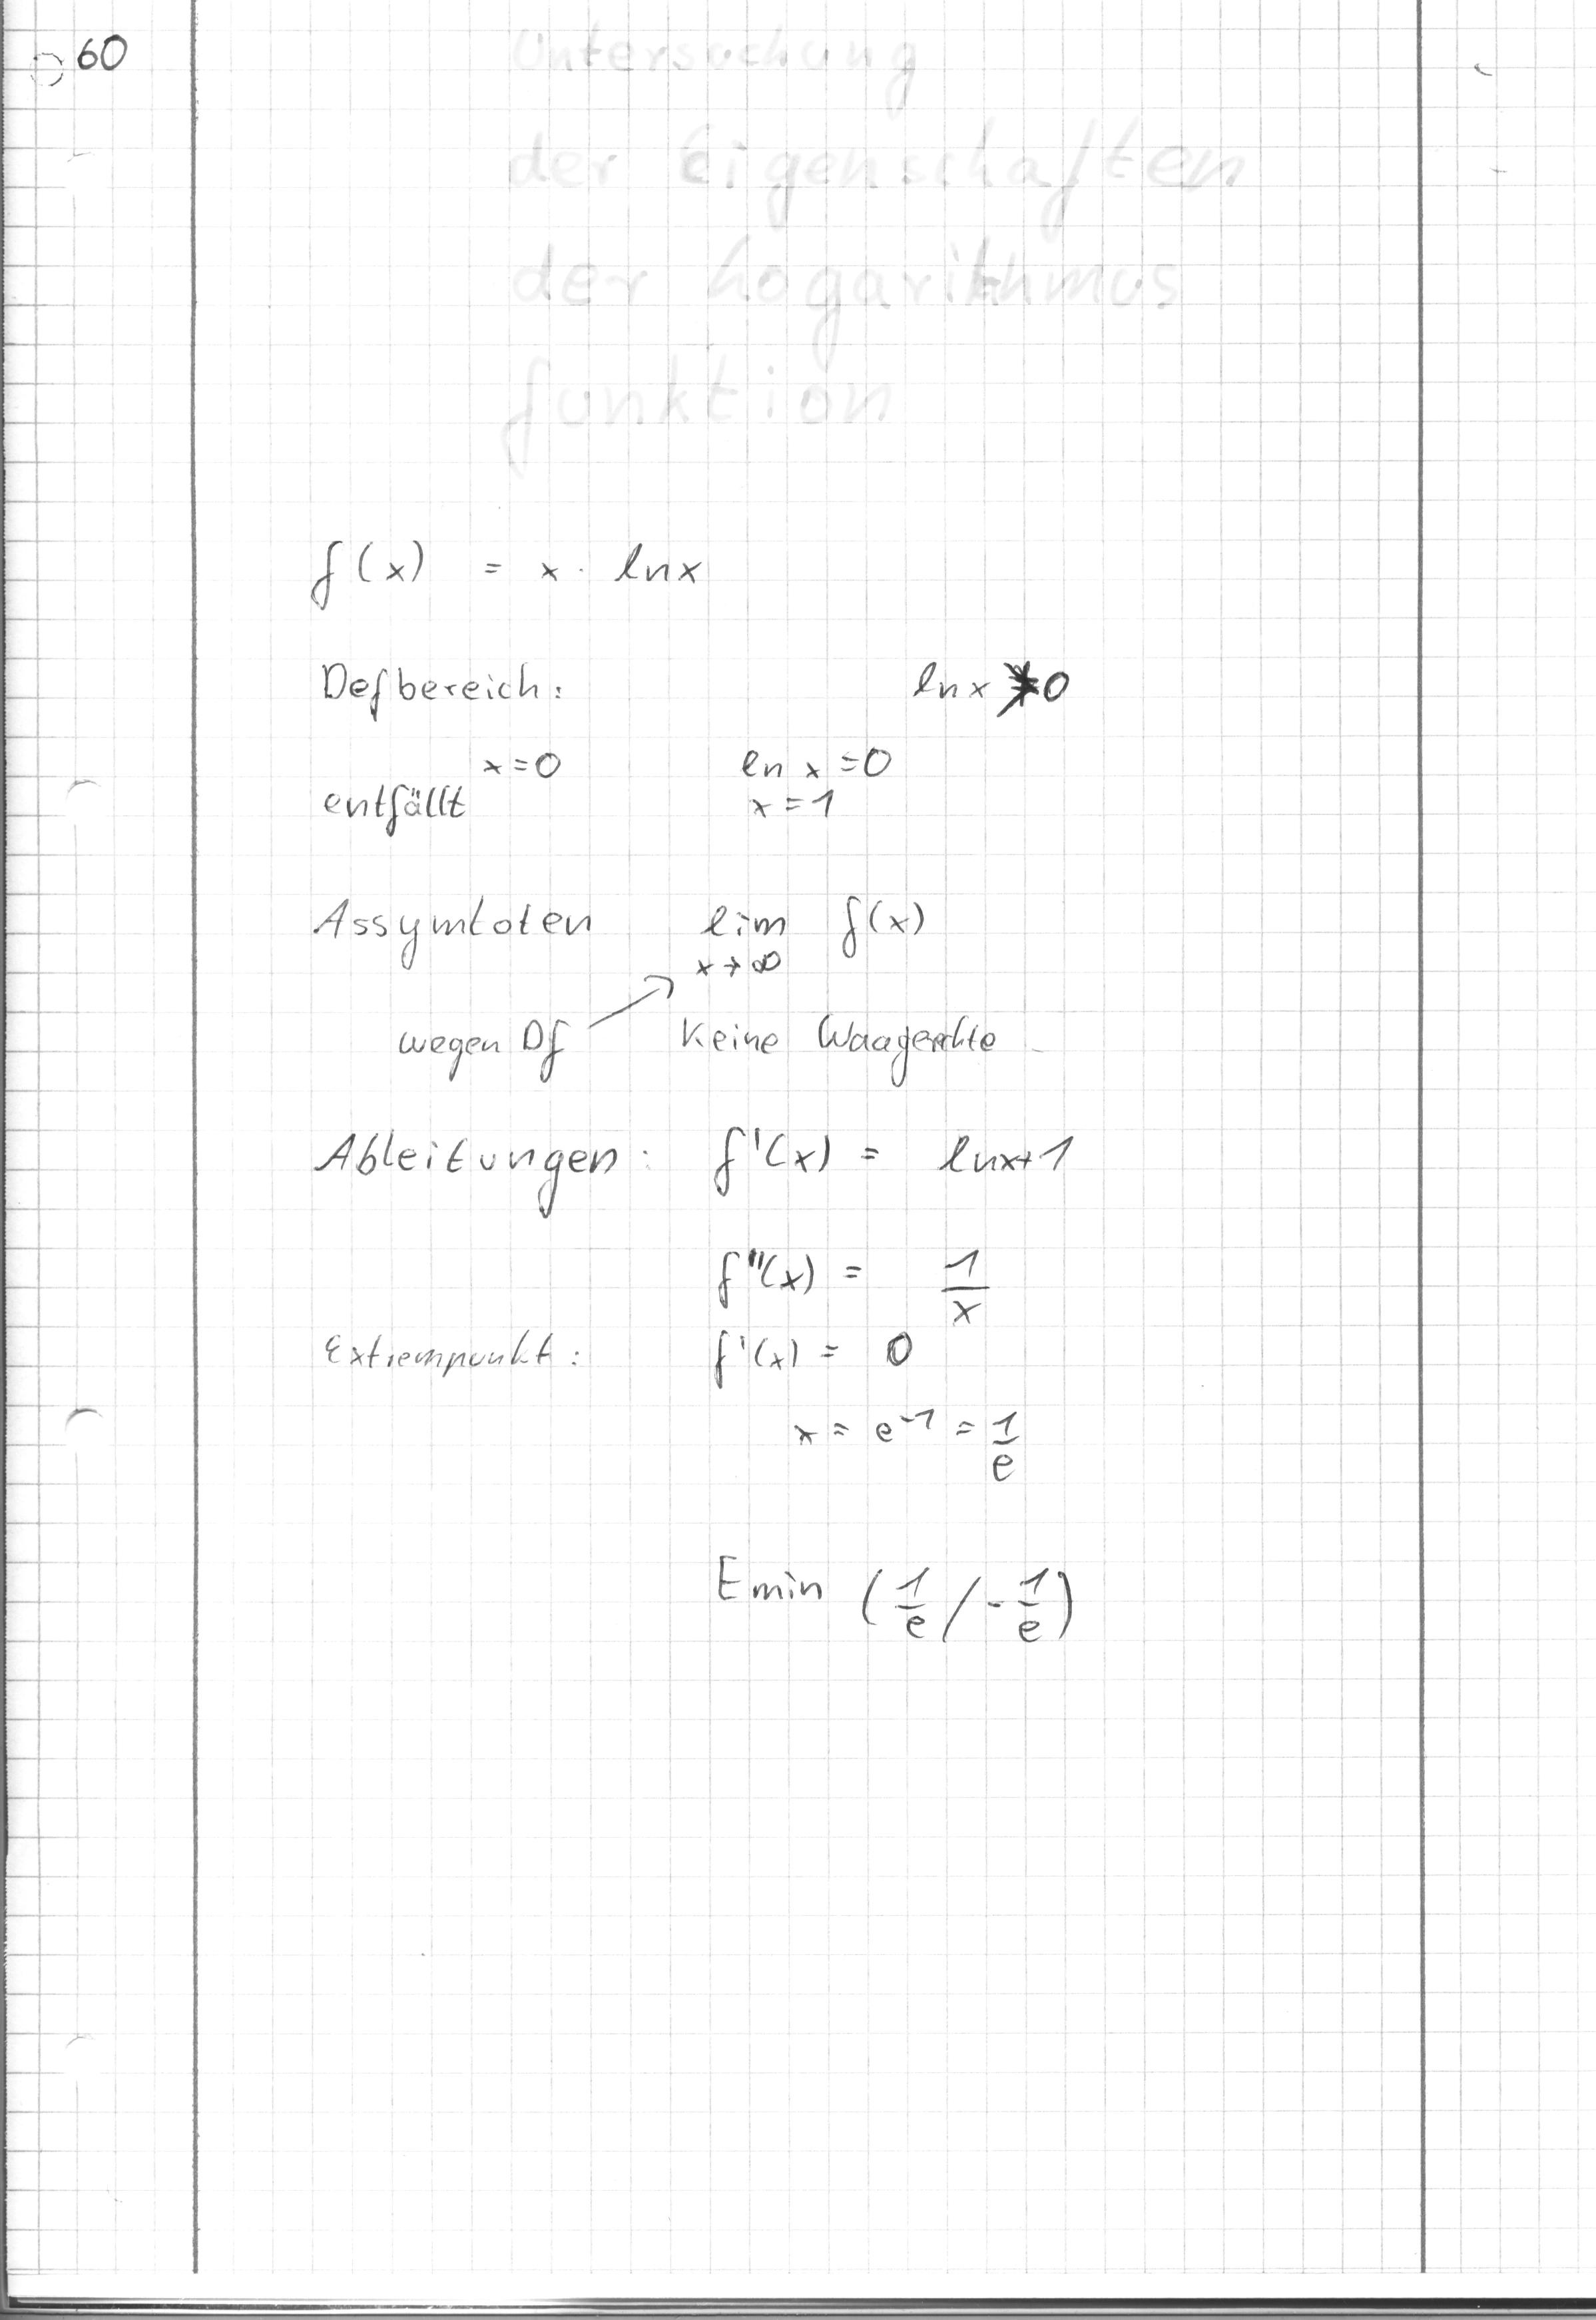word: (706, 1112, 1085, 1498), (290, 1101, 678, 1384), (296, 872, 945, 991), (384, 994, 1012, 1095), (300, 651, 599, 850), (704, 1529, 1096, 1677), (290, 512, 726, 641), (708, 715, 916, 839), (878, 629, 1102, 726)
